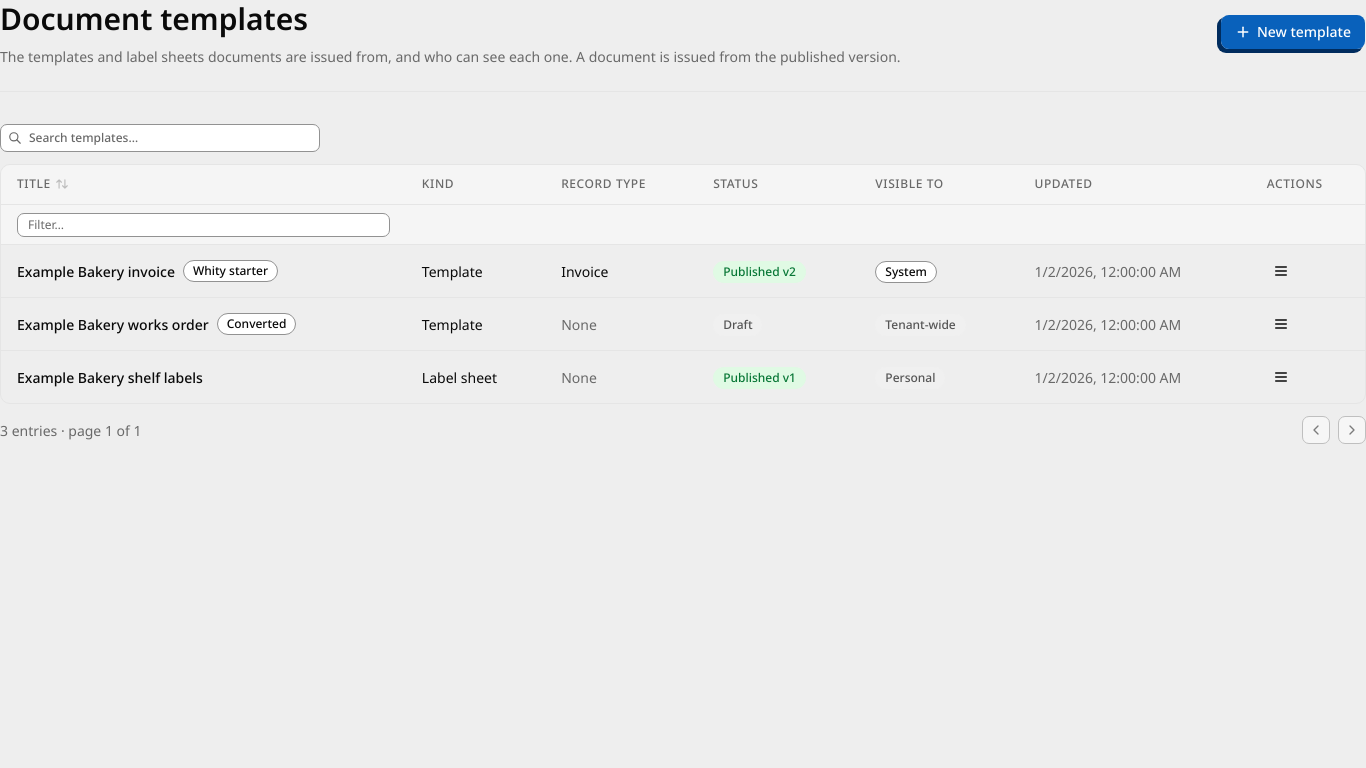
it: row actions › warns before deleting a Whity starter
Expected: the link "Example Bakery invoice" is shown, [17,260,175,282]
Step 1. Click the button named "Actions for Example Bakery invoice" → (1281, 271), box [1267,257,1295,285]
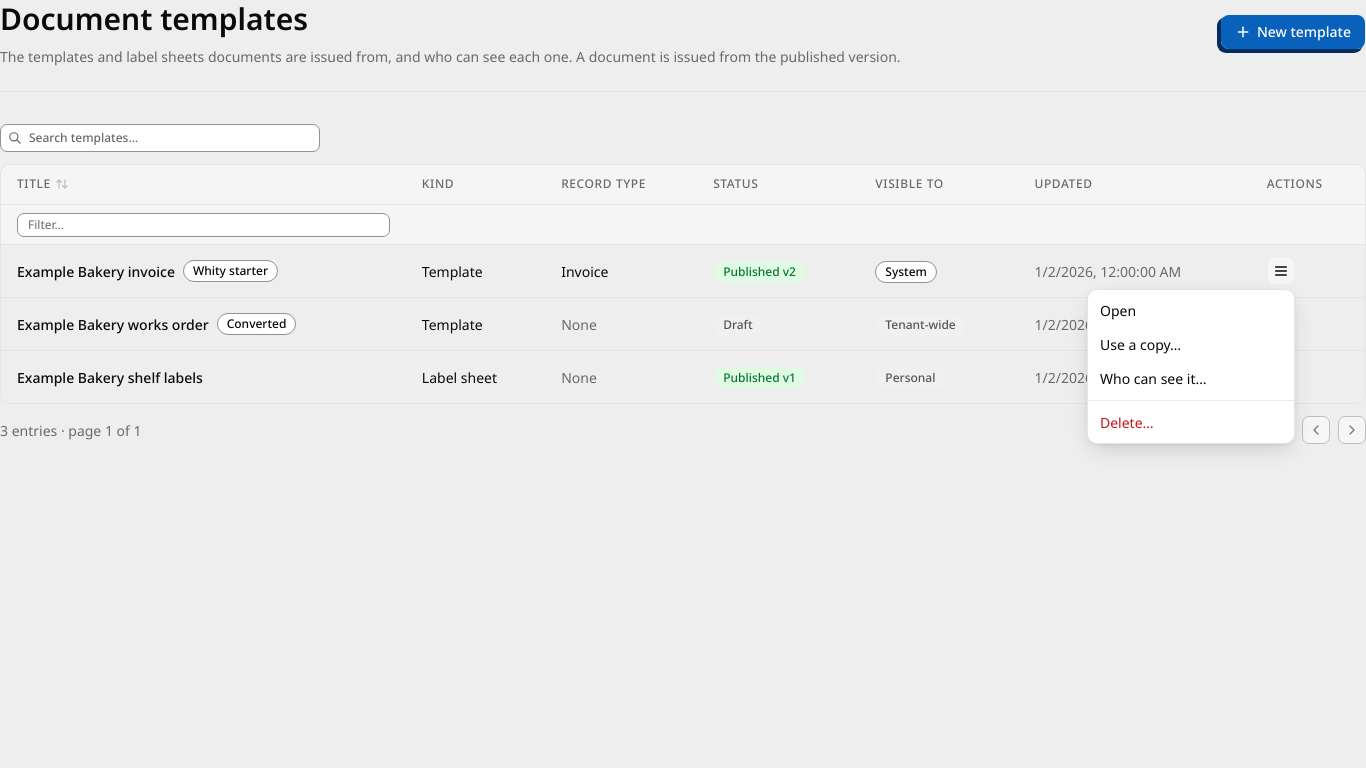
Step 2. Click the menu item "Delete…" → (1127, 422), box [1100,413,1154,432]
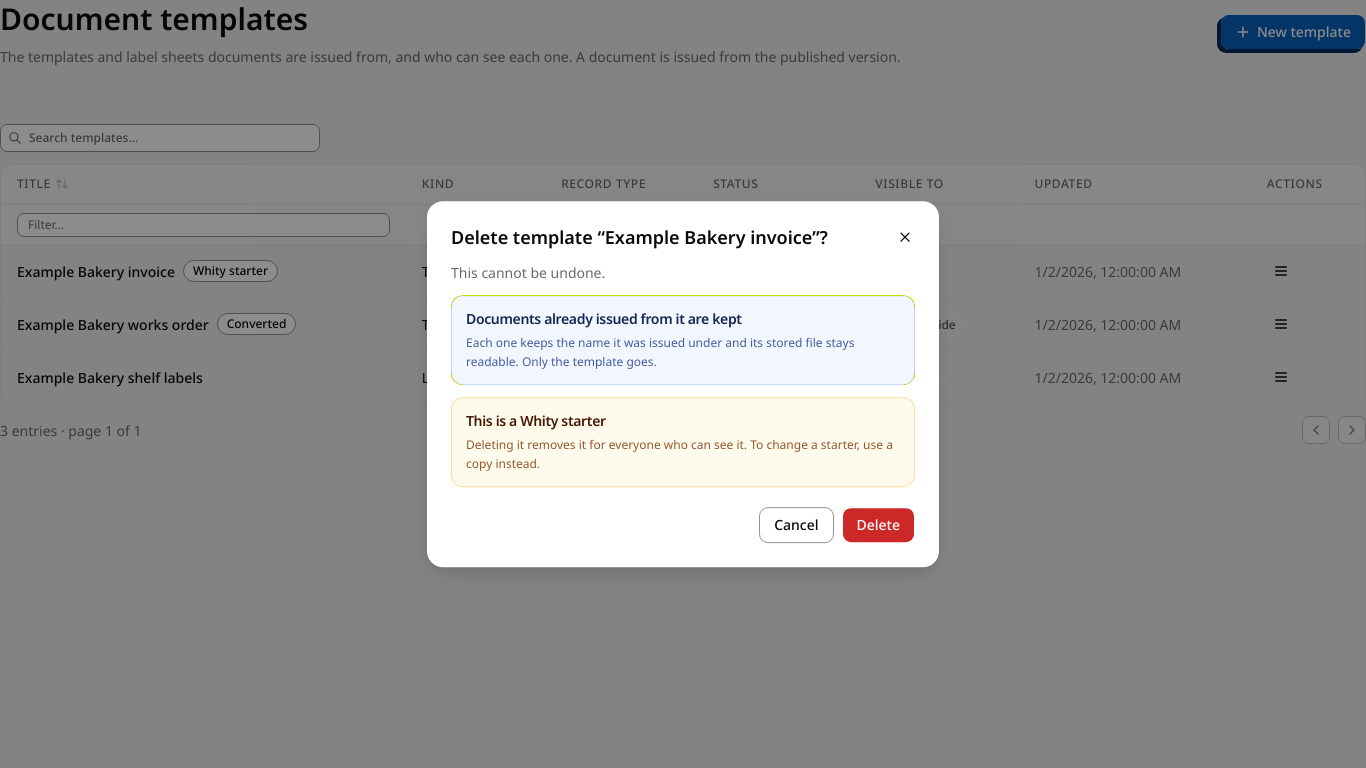
Now the text "This is a Whity starter" is shown, box [466,411,606,430]
